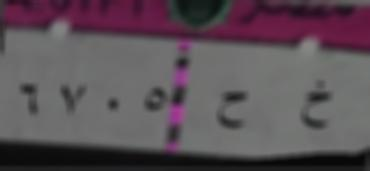0: (103, 91, 122, 118)
5: (140, 82, 168, 121)
6: (13, 78, 42, 125)
7: (57, 76, 90, 126)
7aa: (212, 86, 254, 136)
khaa: (298, 73, 335, 143)
